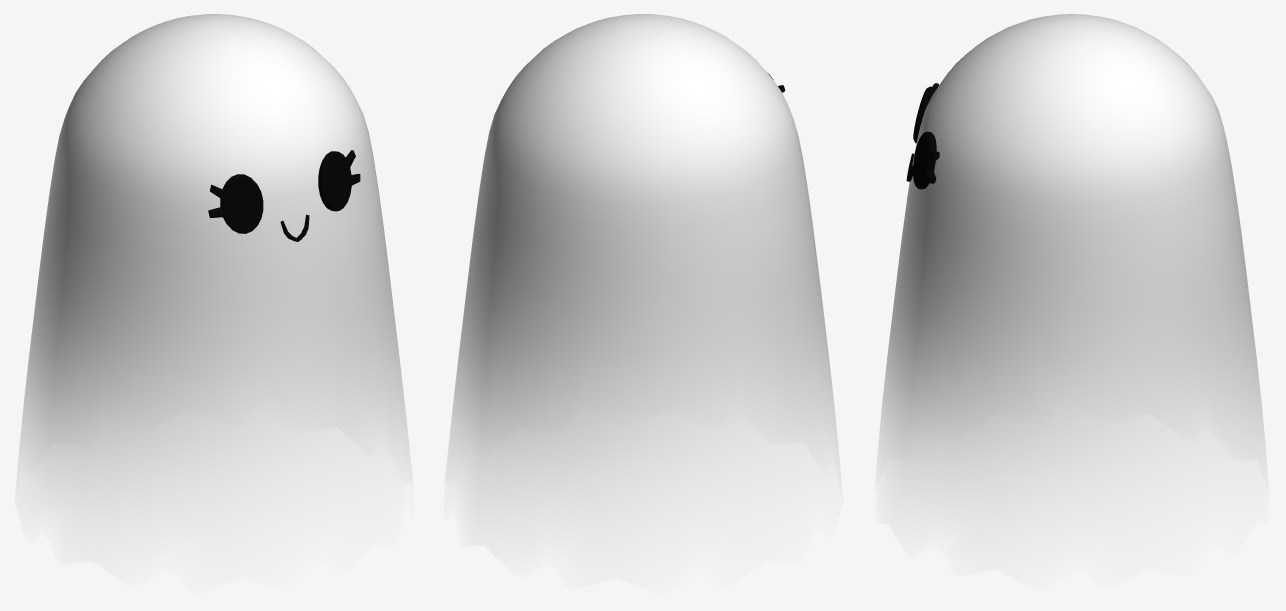
The model's file is ghost.glb.
3 renders of one model, left to right at view 1: azimuth 30°, elevation 25°; view 2: azimuth 150°, elevation 25°; view 3: azimuth 270°, elevation 25°, orthographic.
Visible parts, largest first — view 1: Object_2, Object_3; view 2: Object_2; view 3: Object_2, Object_3.
Boxes of the visible parts, box(x1,y1,x2,y2) form: Object_2: box(16, 14, 412, 536); Object_3: box(208, 150, 360, 241); Object_2: box(445, 14, 841, 541); Object_2: box(876, 14, 1267, 531); Object_3: box(906, 83, 939, 189).
Bounding box in the file's own units: 2.41 × 3.22 × 2.41.
Materials: 2 (1 with a texture image).
